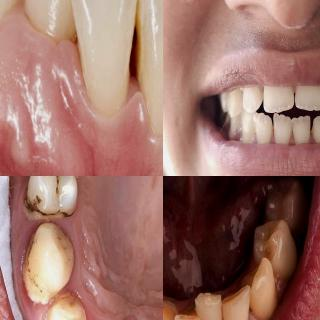Gum Swelling: (0, 8, 103, 145), (97, 95, 163, 153), (15, 253, 47, 320)
calculus: (126, 0, 148, 102), (15, 265, 58, 302)
maligned: (74, 0, 136, 108), (137, 0, 163, 125), (20, 0, 100, 40), (263, 79, 295, 116), (294, 81, 320, 117), (241, 80, 265, 116), (272, 112, 294, 146), (252, 112, 274, 146), (293, 112, 310, 148), (312, 110, 320, 144)
stains: (20, 185, 77, 232), (46, 176, 68, 196), (310, 122, 318, 142), (286, 126, 295, 143), (269, 121, 277, 139)
